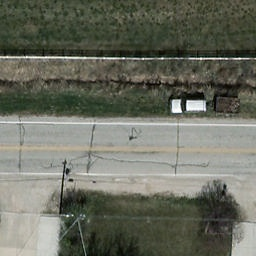car: (168, 99, 207, 116)
